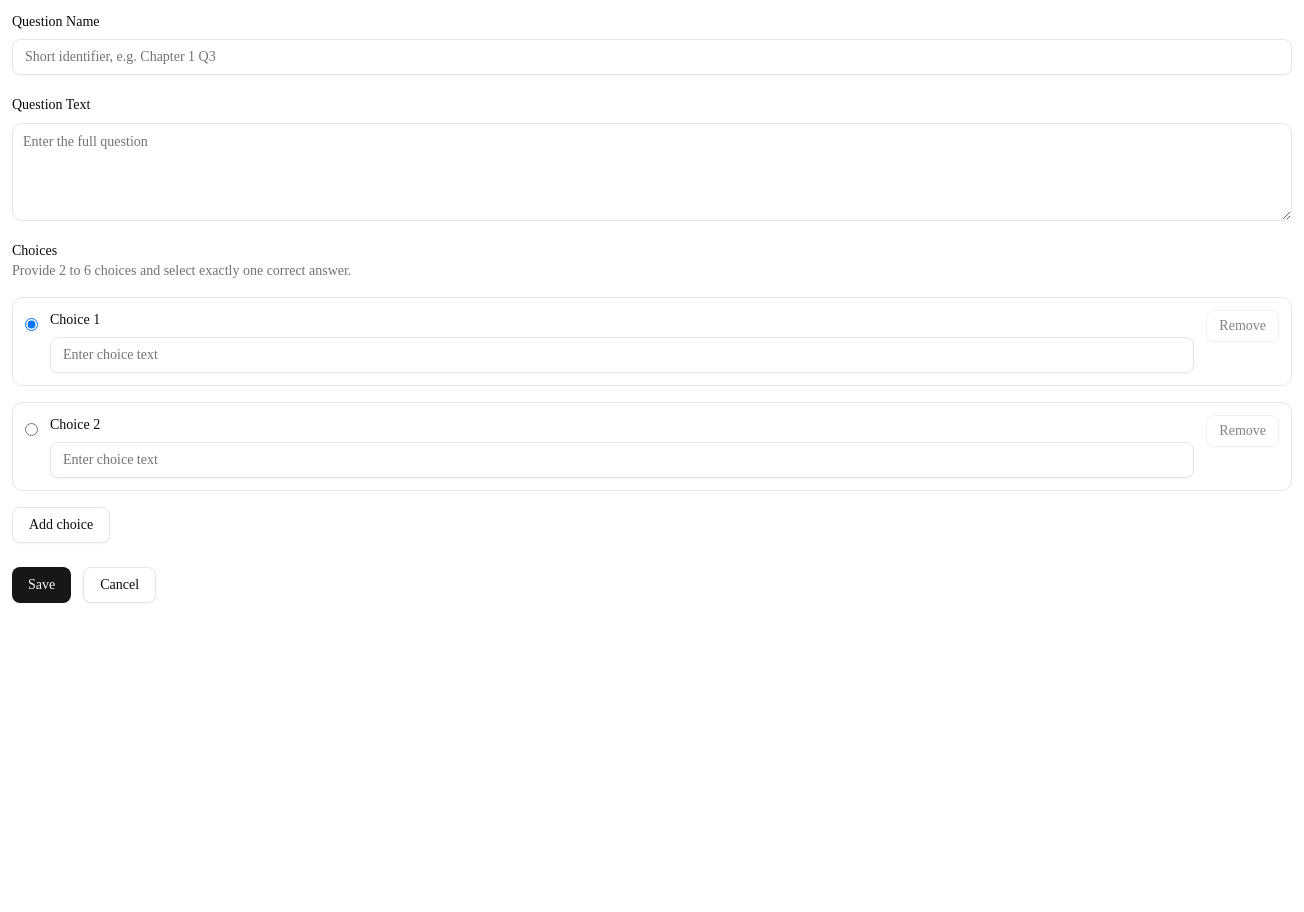
Test: Phase 3: MCQ form › removes a choice row when more than two exist
Click the button "Add choice".
click(61, 525)  # box [12,507,110,543]
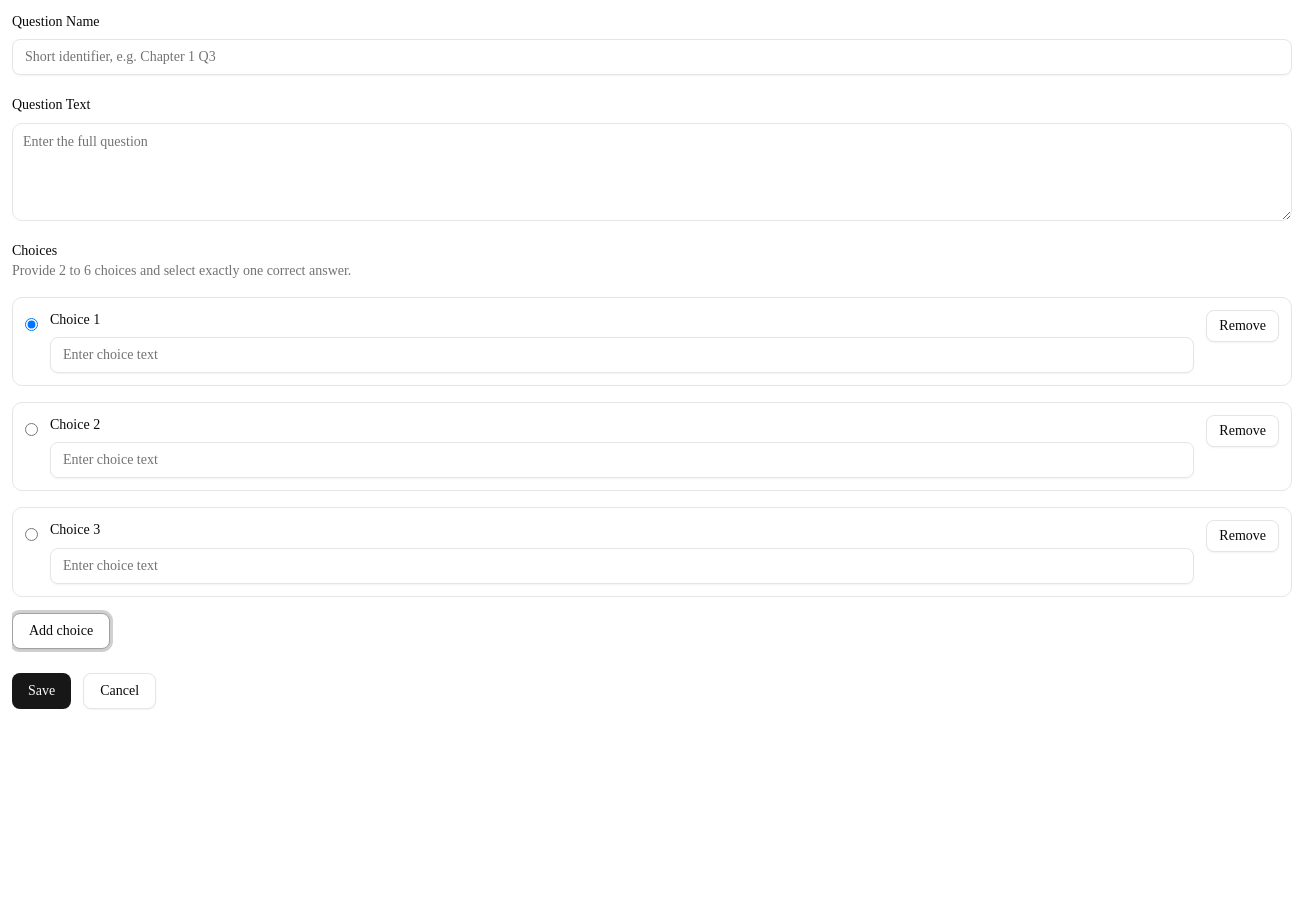
Check: the field labelled "Choice 3" is shown, box [50,548,1194,584]
Click the 3rd button "Remove".
click(1243, 536)  # box [1206,520,1279,552]
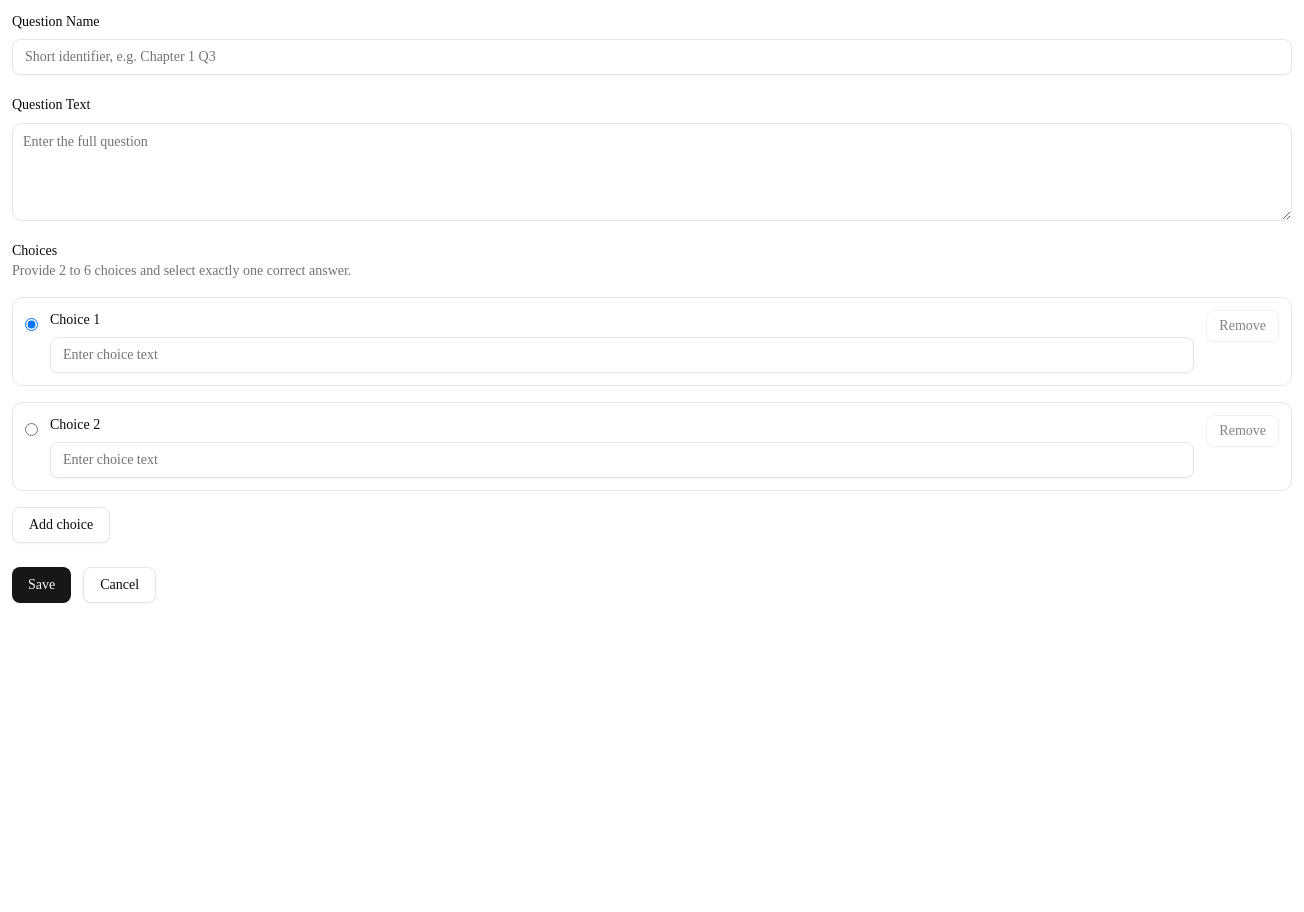
Check: the label labelled "Choice 3" is gone
